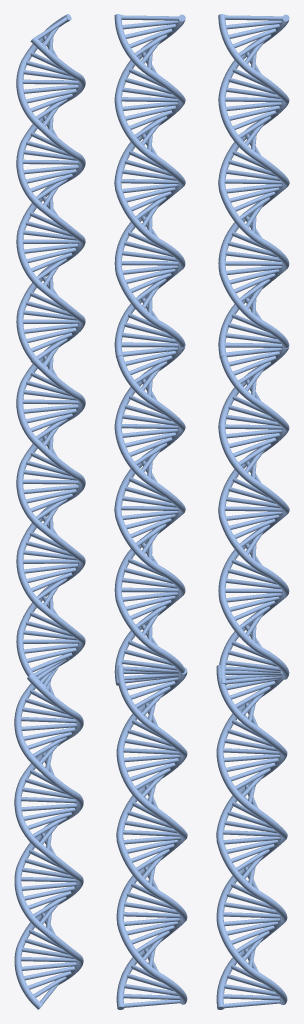
Rendered from dna.glb.
3 views of the same model, side by side, from view 1: azimuth 30°, elevation 25°; view 2: azimuth 150°, elevation 25°; view 3: azimuth 330°, elevation 25° (orthographic). The views are drawn at different scales.
Visible parts, largest first — view 1: Mesh.001, Mesh.002, Mesh; view 2: Mesh.002, Mesh.001, Mesh; view 3: Mesh.002, Mesh.001, Mesh.
Boxes of the visible parts, box(x1,y1,x2,y2) form: Mesh.001: box(16, 14, 85, 371); Mesh.002: box(14, 654, 83, 1009); Mesh: box(16, 338, 85, 688); Mesh.002: box(116, 665, 187, 1009); Mesh.001: box(114, 14, 185, 357); Mesh: box(114, 342, 185, 685); Mesh.002: box(216, 665, 287, 1009); Mesh.001: box(218, 14, 289, 357); Mesh: box(218, 342, 289, 685).
Size of the model in its own units: 2 by 29.81 by 1.93.
